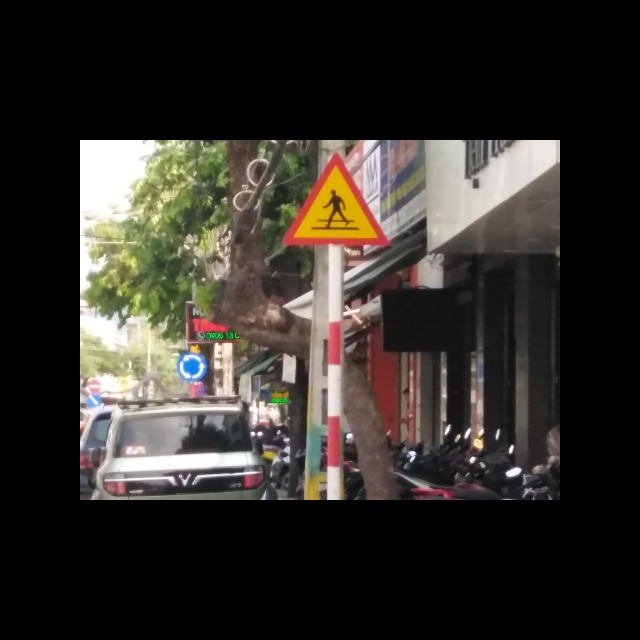Nơi giao nhau chạy theo vòng xuyến: (176, 351, 209, 383)
Đường người đi bộ sang đường: (282, 150, 391, 247)
